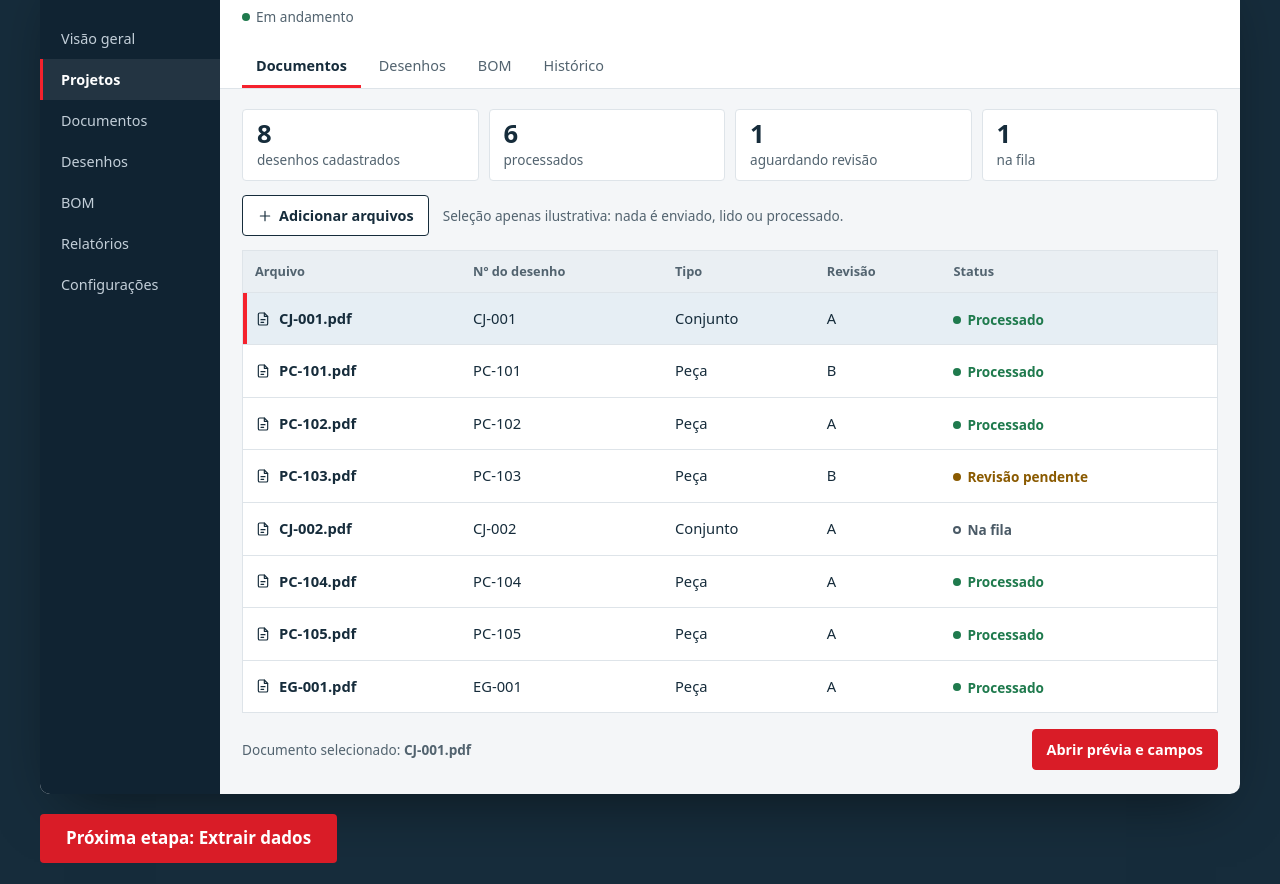
it: ProductDemo › etapa 1: indicadores coerentes com a tabela e seleção por linha
(page scrolled)
Click the button "PC-103.pdf" at (306, 476), box [255,460,356,492]
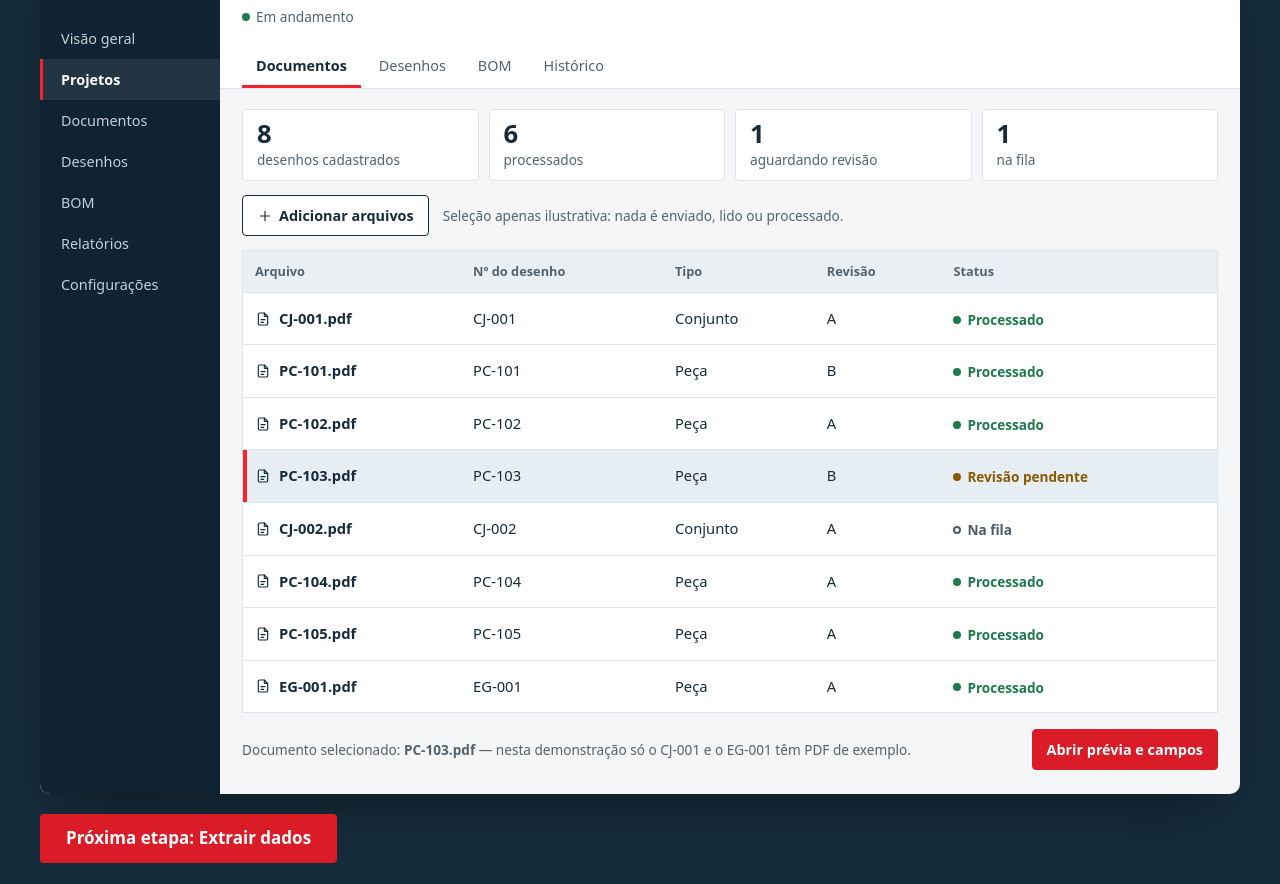
Expected: the text "Documento selecionado:" shows "PC-103.pdf", [404,740,475,759]
